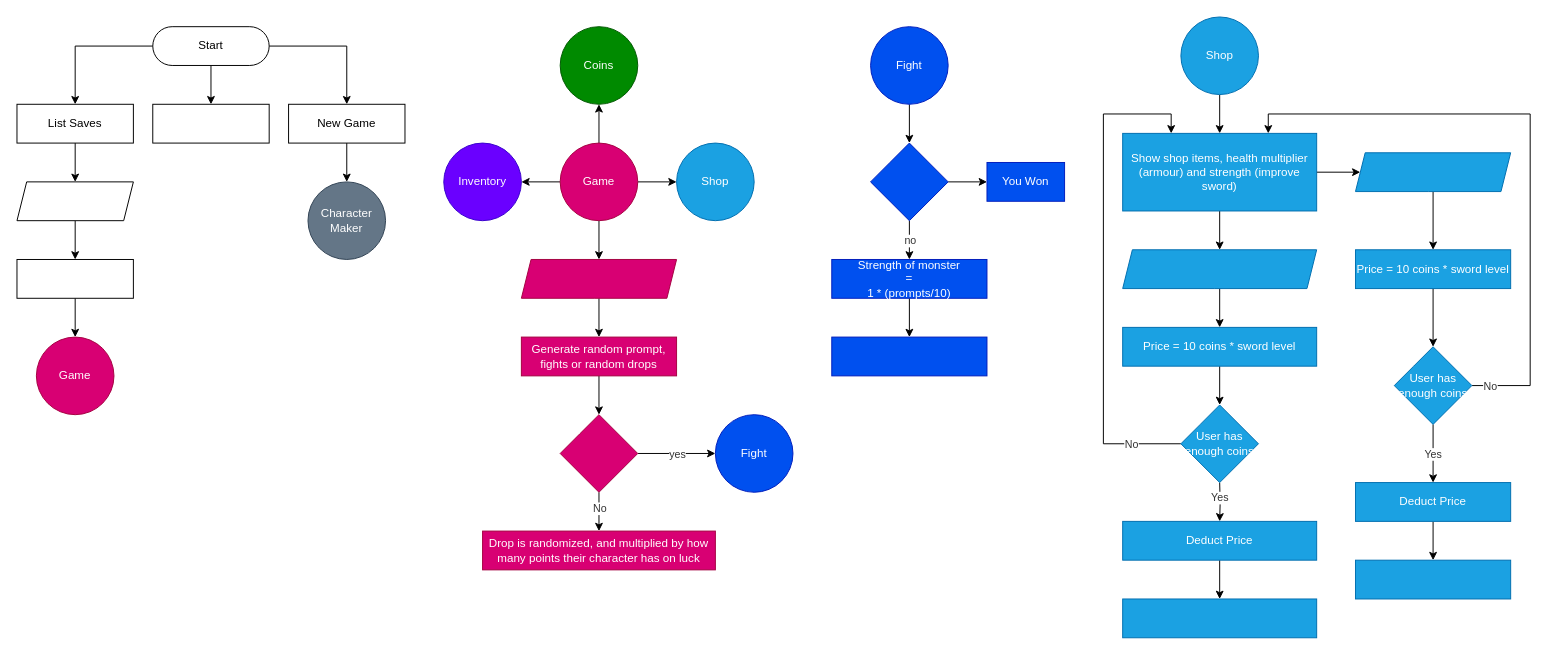
Image size: 1555x655. Some labels were removed from this diagram. The shapes that lost their labels are listed below. From the top down, each one's box as (x1, y1, x2, y2) in pixels, then its label:
(152, 103, 269, 143): Exit program, save progress
(870, 142, 948, 221): Have 5 monsters been killed?
(1355, 152, 1511, 192): Upgrade Sword Level
(16, 181, 133, 221): Select Save
(16, 259, 133, 298): Load Save
(520, 259, 677, 298): Go forward
(1122, 249, 1317, 289): Upgrade Armour Level
(831, 336, 987, 376): Health of monster = 1 * (prompts/10)
(559, 414, 638, 492): Is fight?
(1355, 559, 1511, 599): Add 10% Strength Multiplier
(1122, 598, 1317, 638): Add 10% Health Multiplier
